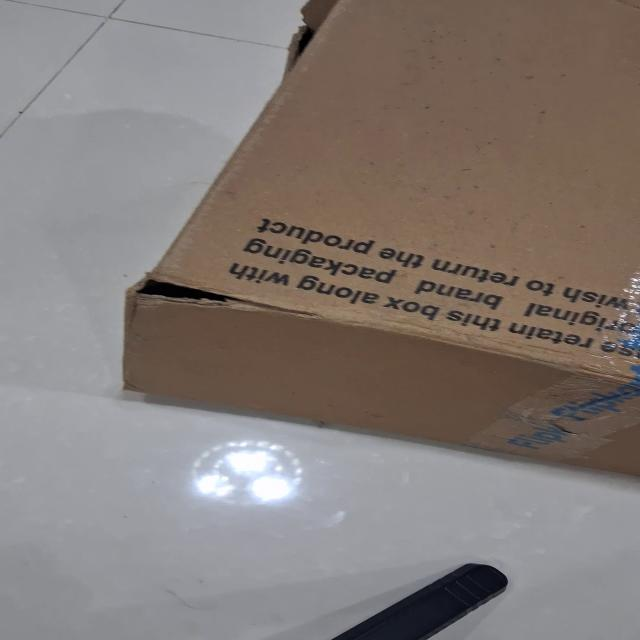paper: (120, 0, 639, 478)
